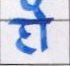au_matra: (26, 0, 53, 50)
